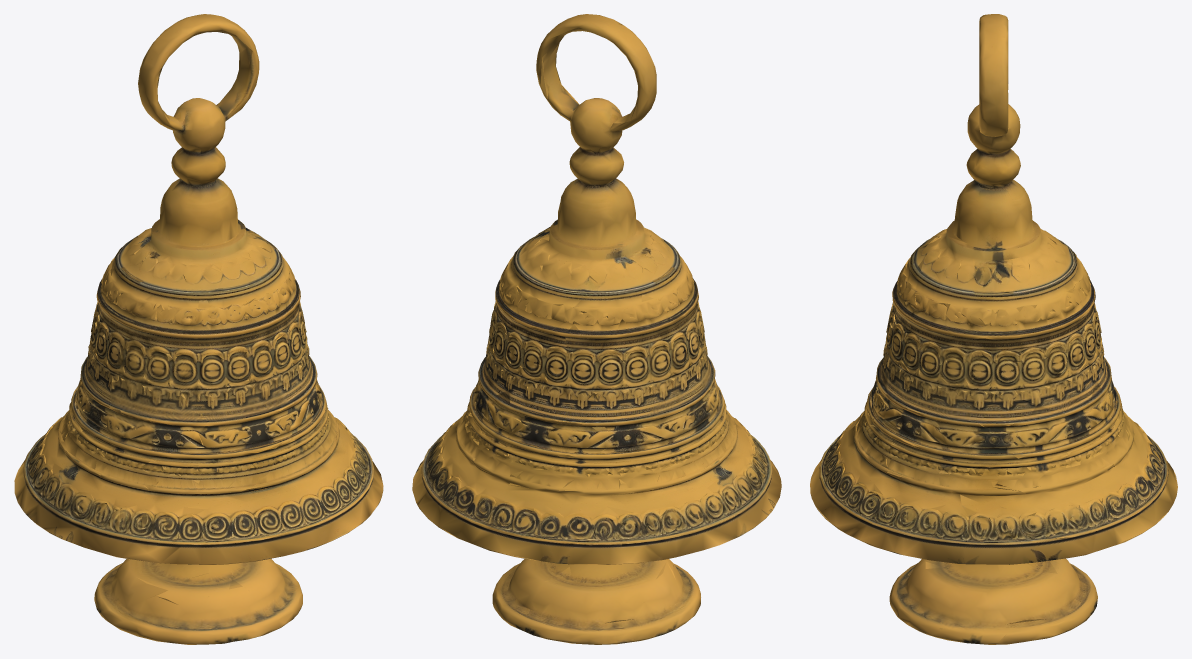
File: ClocheDecorative.fbx
The picture shows the model from 3 angles, left to right: view 1: azimuth 30°, elevation 25°; view 2: azimuth 150°, elevation 25°; view 3: azimuth 270°, elevation 25°; orthographic projection.
Parts seen in each view (by area): view 1: output_unwrapped; view 2: output_unwrapped; view 3: output_unwrapped.
Part boxes in pixels (x1,y1,x2,y2): output_unwrapped: (14,14,383,644); output_unwrapped: (412,14,781,644); output_unwrapped: (810,14,1177,644).
Bounding box in the file's own units: 109 × 190 × 109.
1 material, 1 textured.
